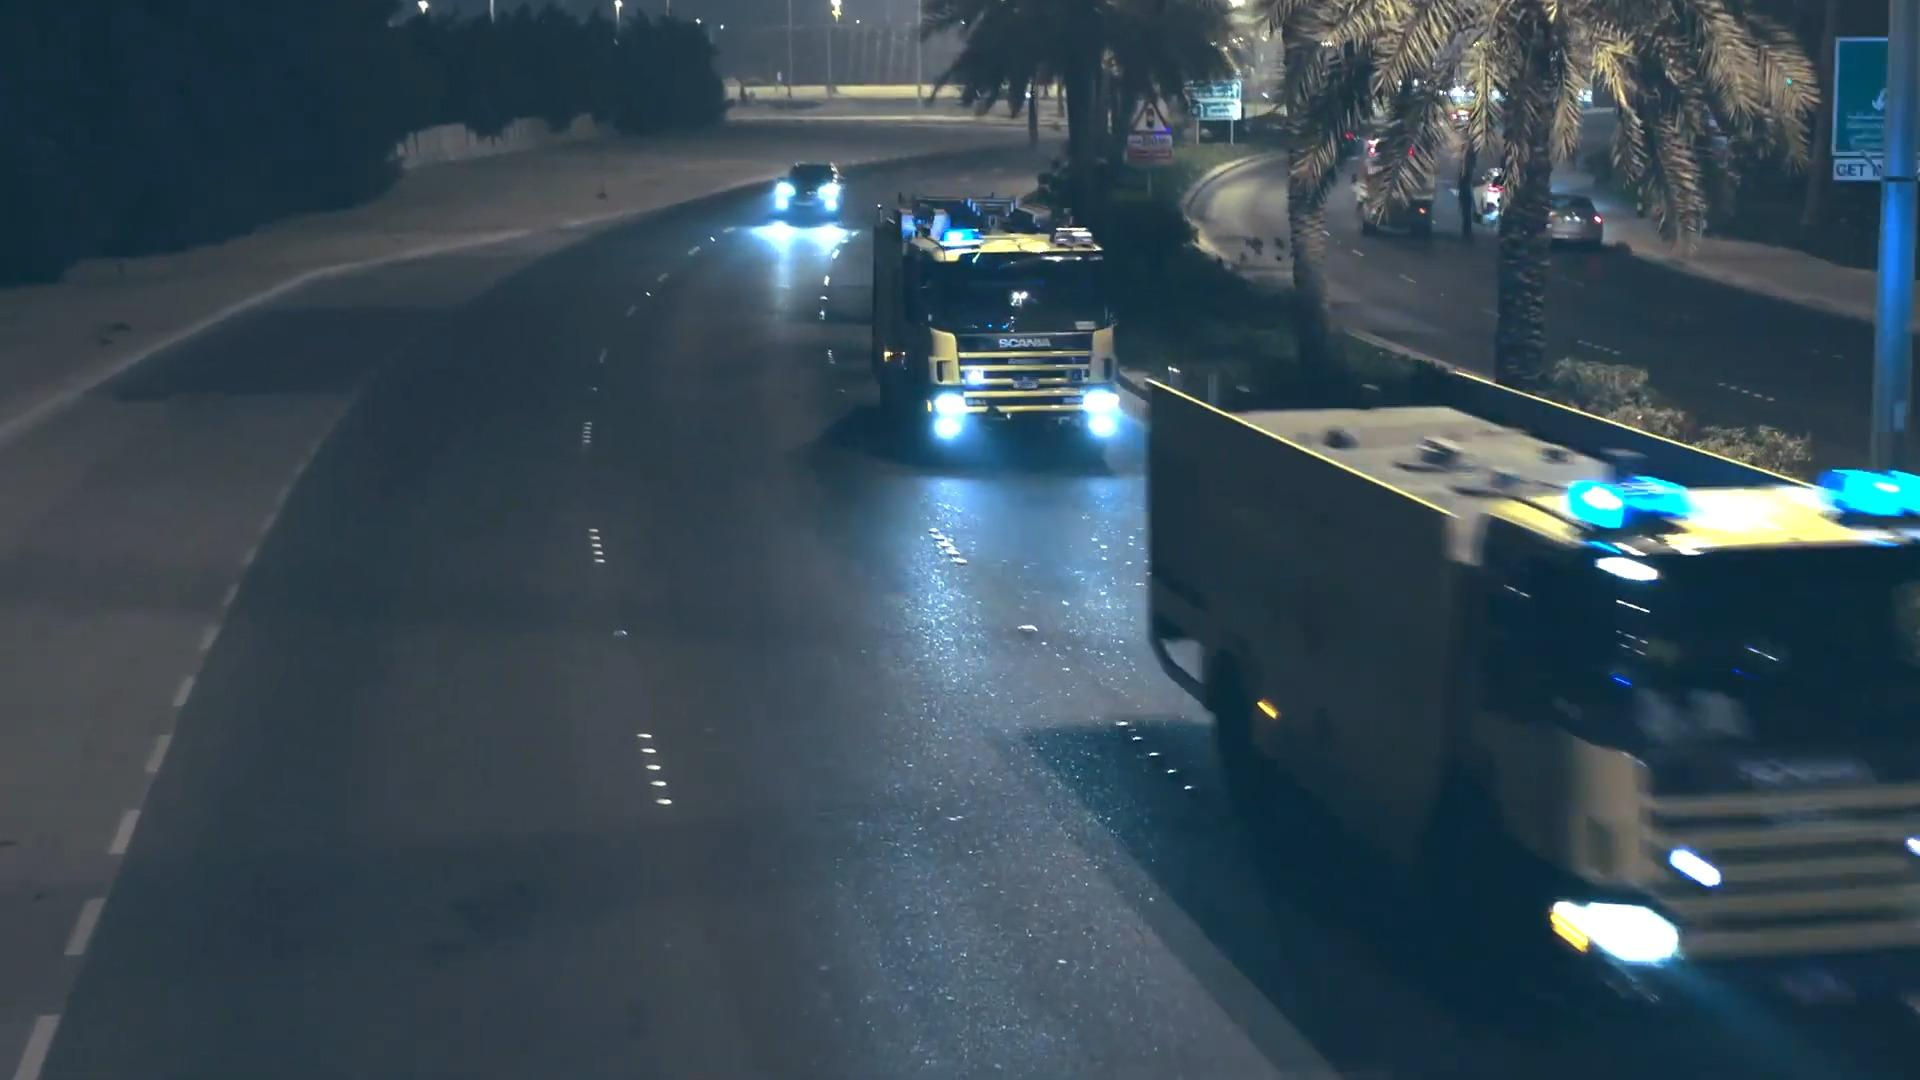firetruck_on: (1141, 352, 1920, 1050), (872, 195, 1124, 465)
